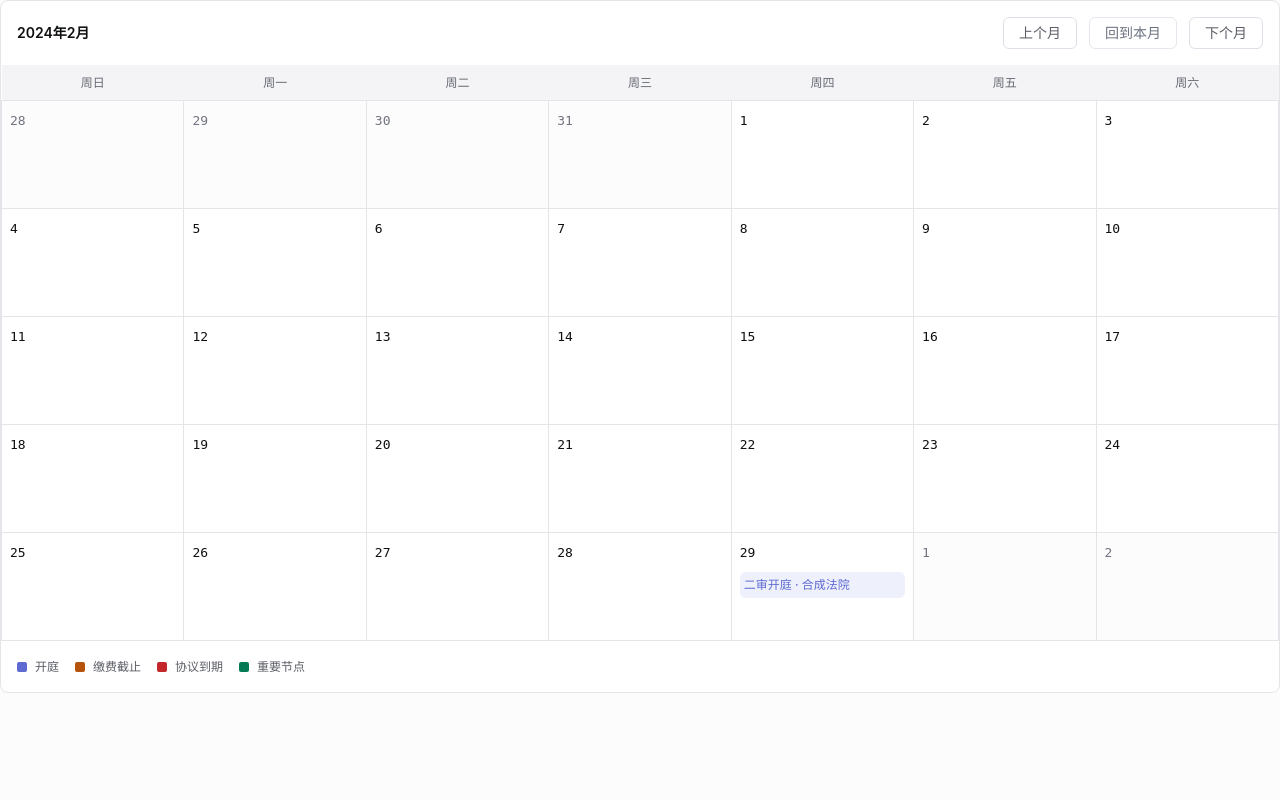
Test case: CalendarMonthGrid › shows the six authorized court fields with title/sub on hover or focus
Hover over the button with class "calendar-event" at (822, 585), box [740,572,905,598]
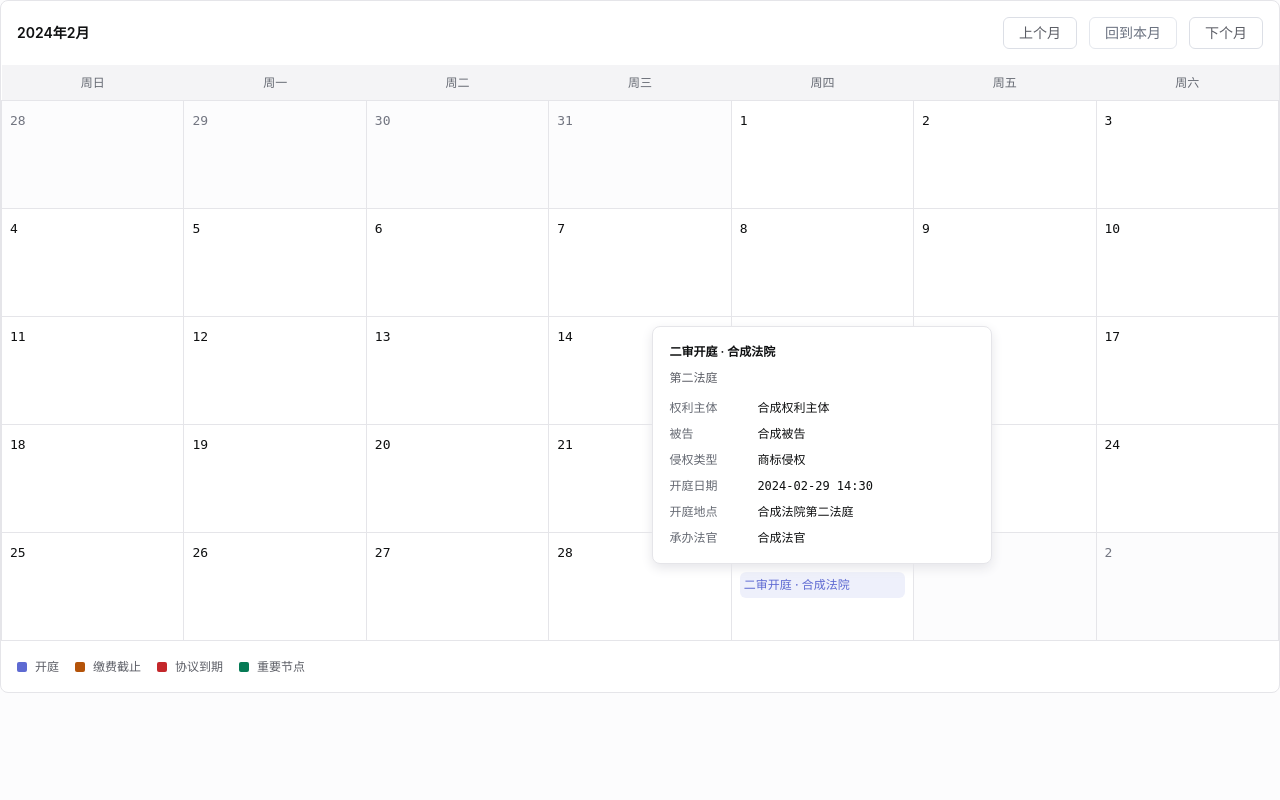
expect the tooltip shows "二审开庭 · 合成法院": met, box [669,344,775,359]
expect the tooltip shows "第二法庭": met, box [669,370,717,385]
Move the pointer off the button with class "calendar-event", box [740,572,905,598]
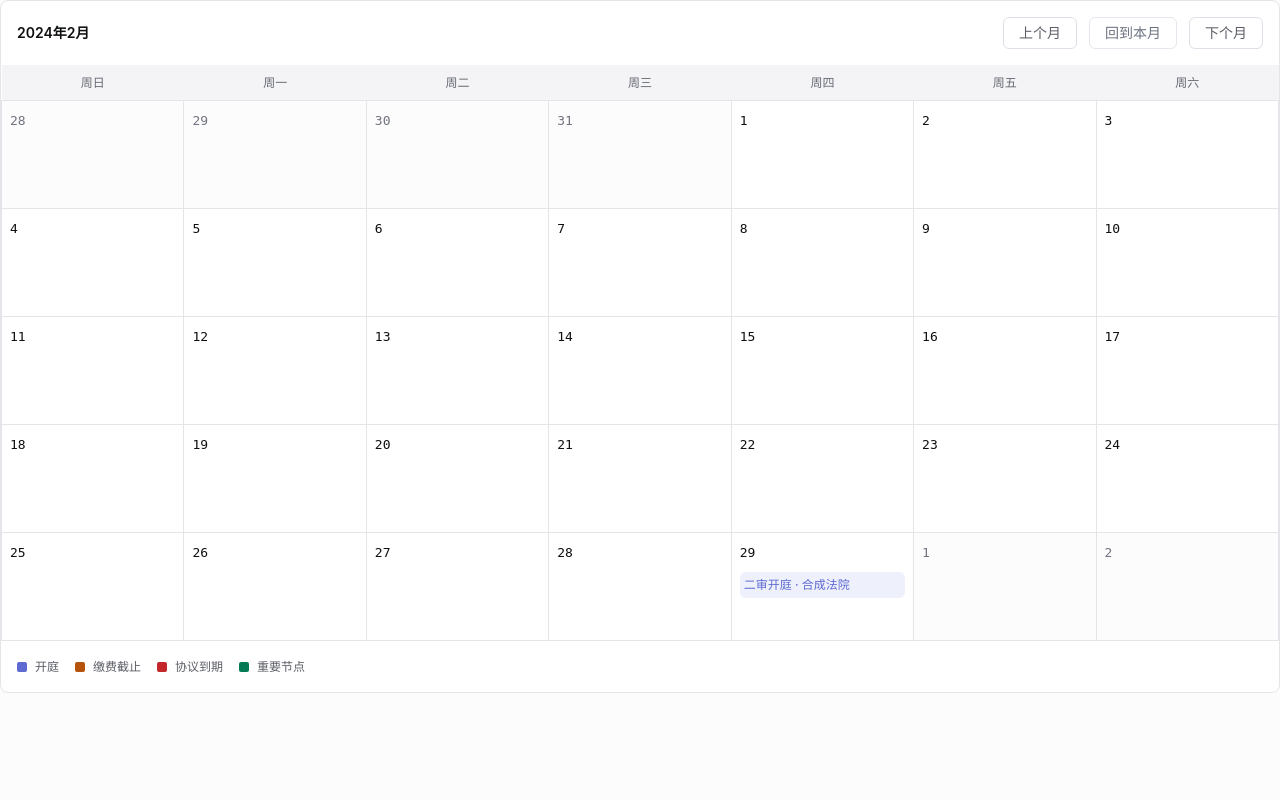
expect the tooltip is gone: met
Focus the button with class "calendar-event" at (822, 585), box [740,572,905,598]
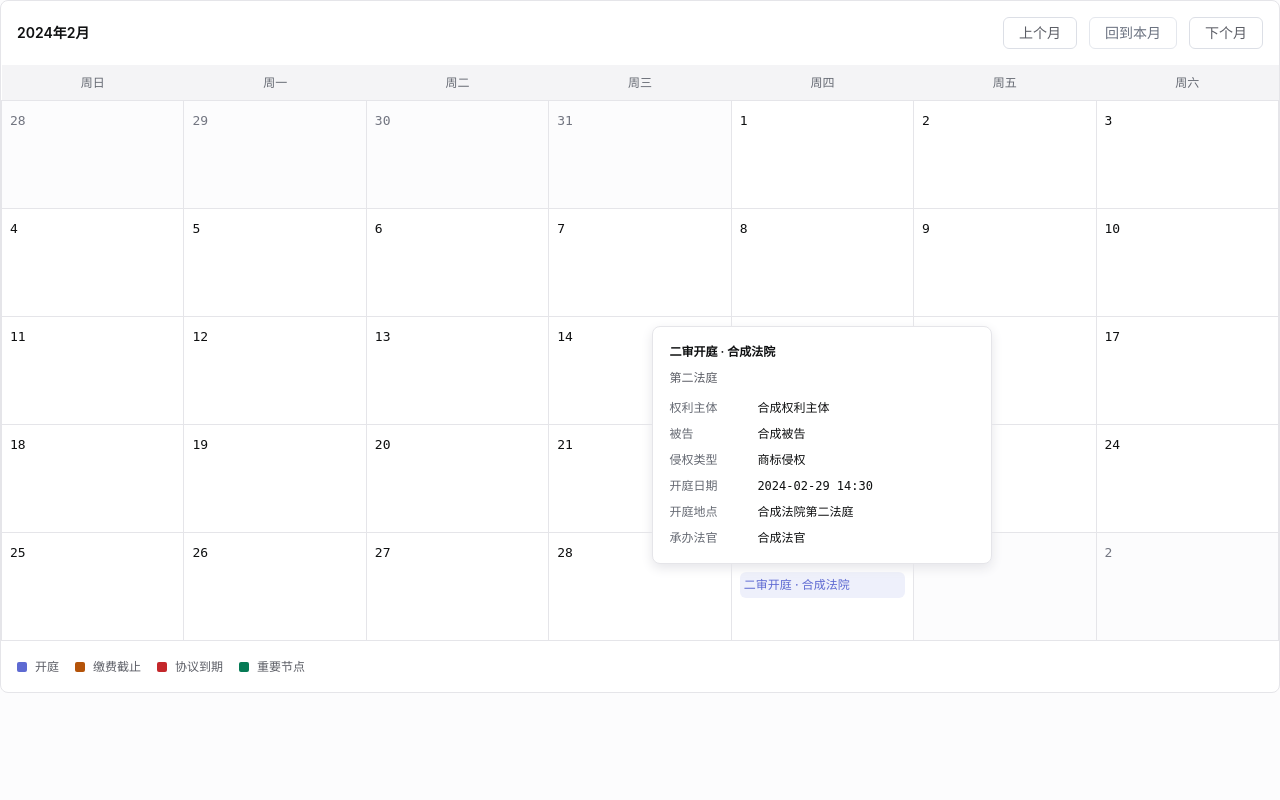
expect the tooltip is shown: met, box [652,326,992,564]
Leave the button with class "calendar-event", box [740,572,905,598]
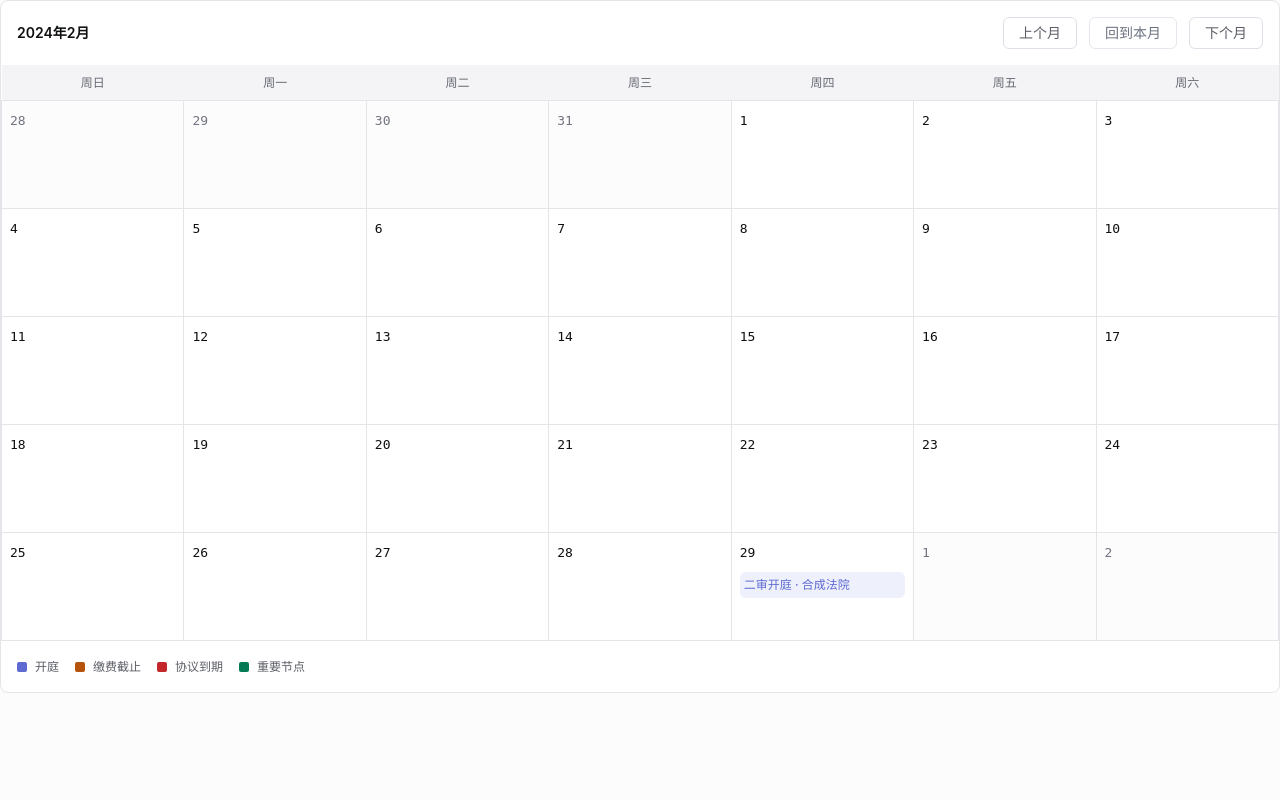
expect the tooltip is gone: met
